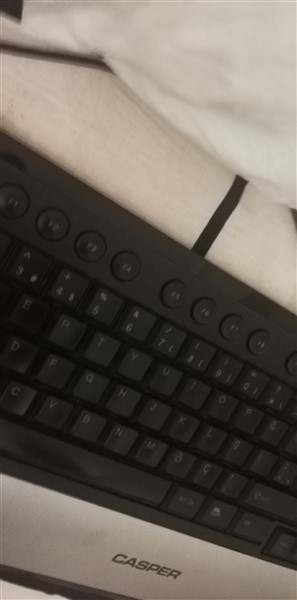klavye: (1, 155, 293, 599)
